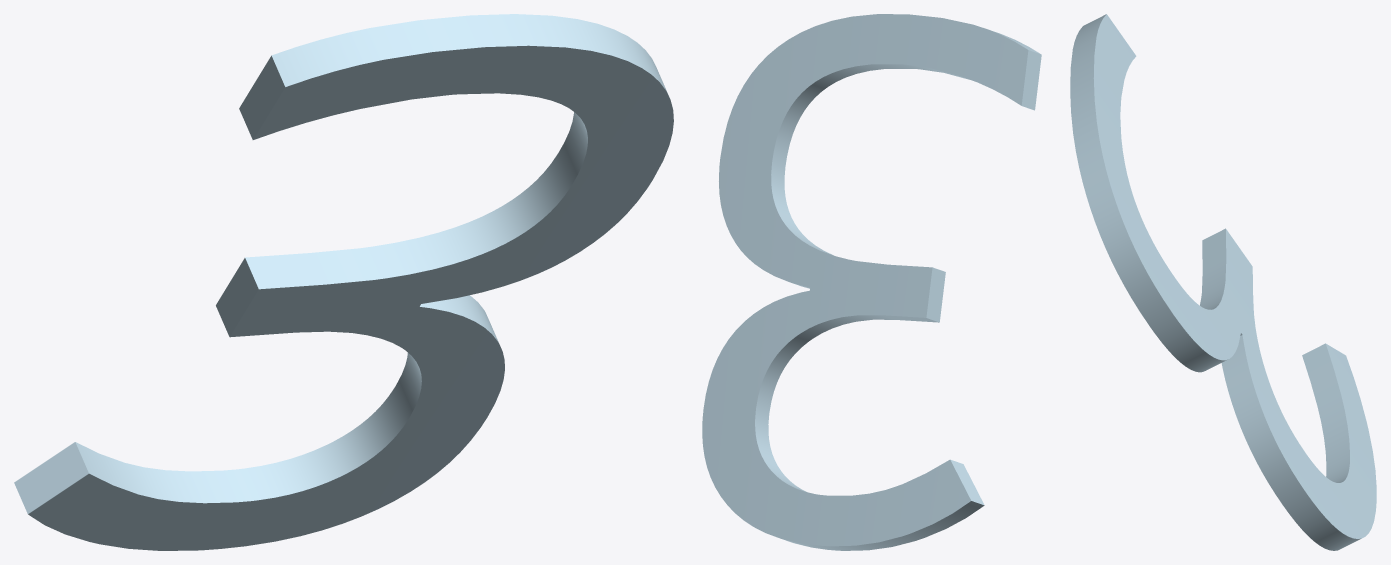
Rendered from Number_3.gltf.
3 views of the same model, side by side, from view 1: azimuth 30°, elevation 25°; view 2: azimuth 150°, elevation 25°; view 3: azimuth 270°, elevation 25° (orthographic). The views are drawn at different scales.
Visible parts, largest first — view 1: Sub_9_Cell_1_3_Number_3; view 2: Sub_9_Cell_1_3_Number_3; view 3: Sub_9_Cell_1_3_Number_3.
Part boxes in pixels (x1,y1,x2,y2): Sub_9_Cell_1_3_Number_3: (14, 14, 673, 550); Sub_9_Cell_1_3_Number_3: (702, 14, 1041, 550); Sub_9_Cell_1_3_Number_3: (1070, 14, 1376, 550).
Bounding box in the file's own units: 0.0187 × 0.0235 × 0.014.
